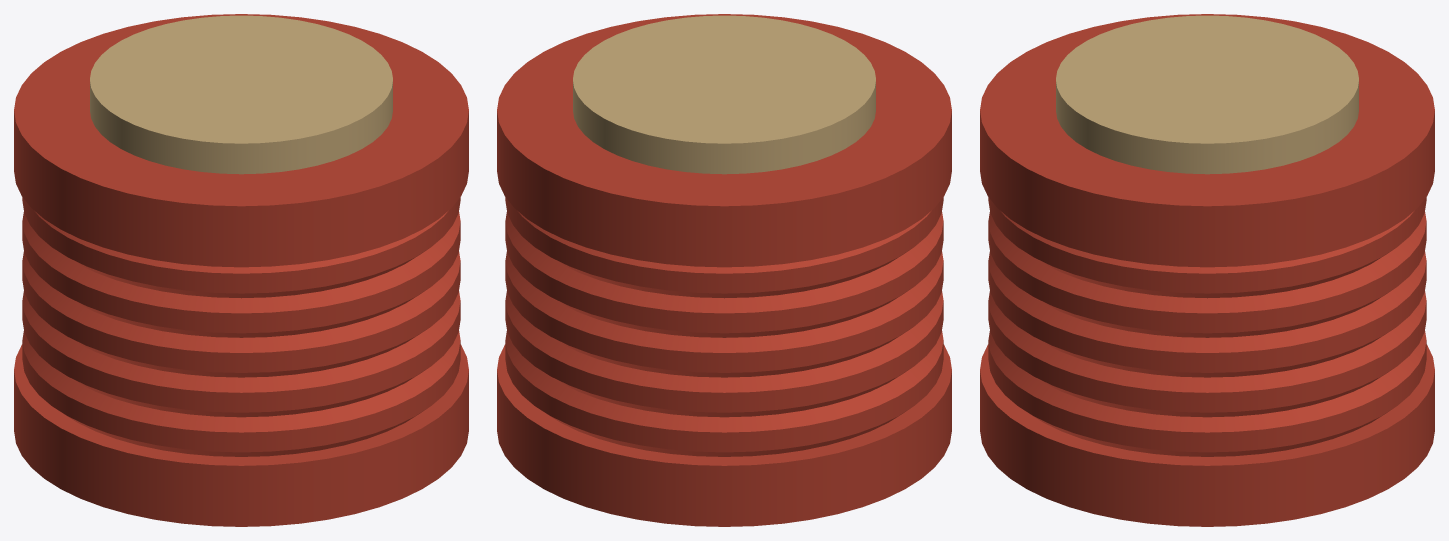
File: thread_spool.glb
3 renders of one model, left to right at view 1: azimuth 30°, elevation 25°; view 2: azimuth 150°, elevation 25°; view 3: azimuth 270°, elevation 25°, orthographic.
Visible parts, largest first — view 1: sewing_thread:spool; view 2: sewing_thread:spool; view 3: sewing_thread:spool.
Boxes of the visible parts, left/top/right/bottom form: sewing_thread:spool: left=14, top=14, right=468, bottom=526; sewing_thread:spool: left=497, top=14, right=951, bottom=526; sewing_thread:spool: left=980, top=14, right=1434, bottom=526.
Size of the model in its own units: 0.054 by 0.05 by 0.054.
